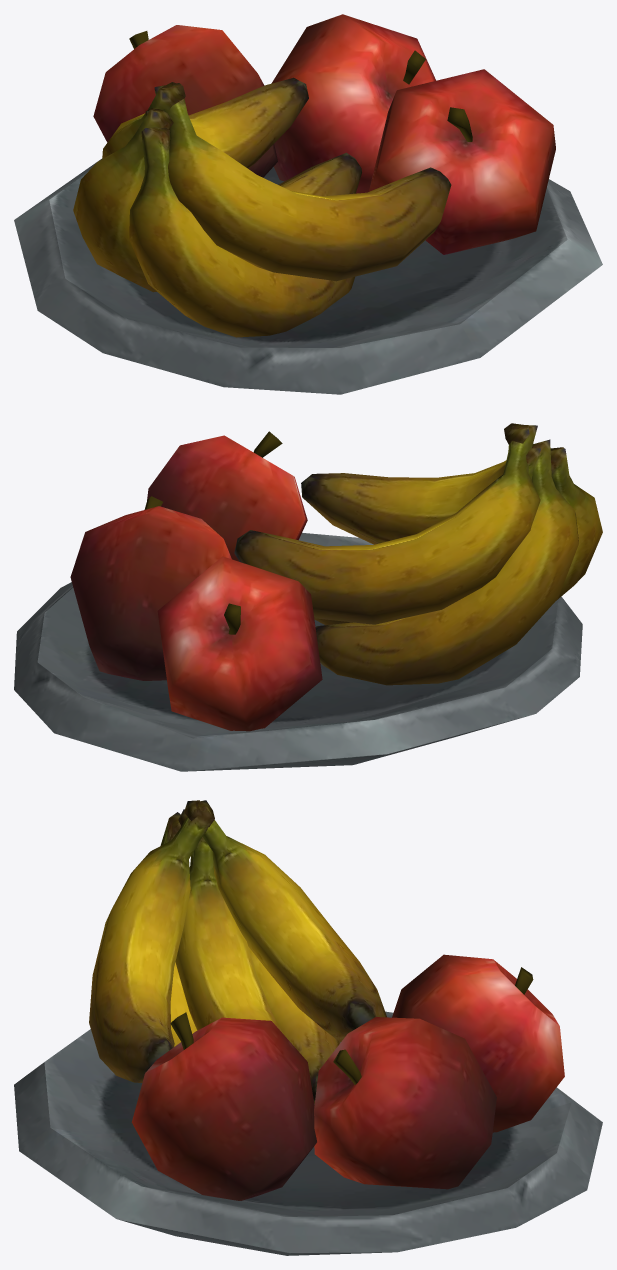
3 renders of one model, top to bottom at view 1: azimuth 30°, elevation 25°; view 2: azimuth 150°, elevation 25°; view 3: azimuth 270°, elevation 25°, orthographic. The views are drawn at different scales.
Bounding box in the file's own units: 0.6178 × 0.332 × 0.6301.
Materials: 1 (1 with a texture image).
